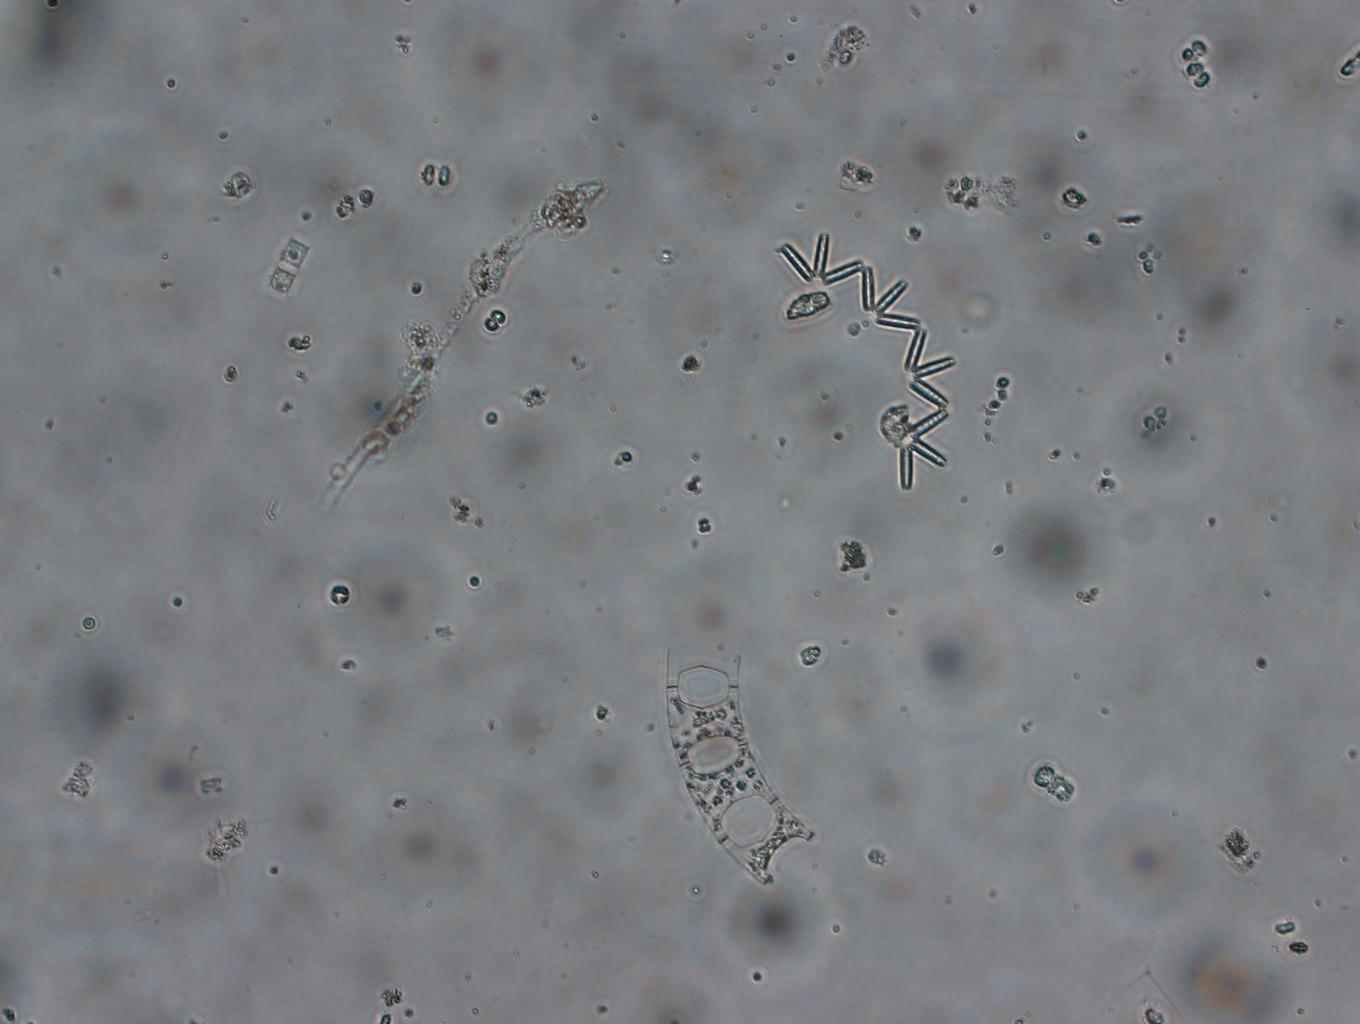eucampia: (652, 648, 817, 894)
thalassionema nitzschioides: (763, 211, 967, 504)
